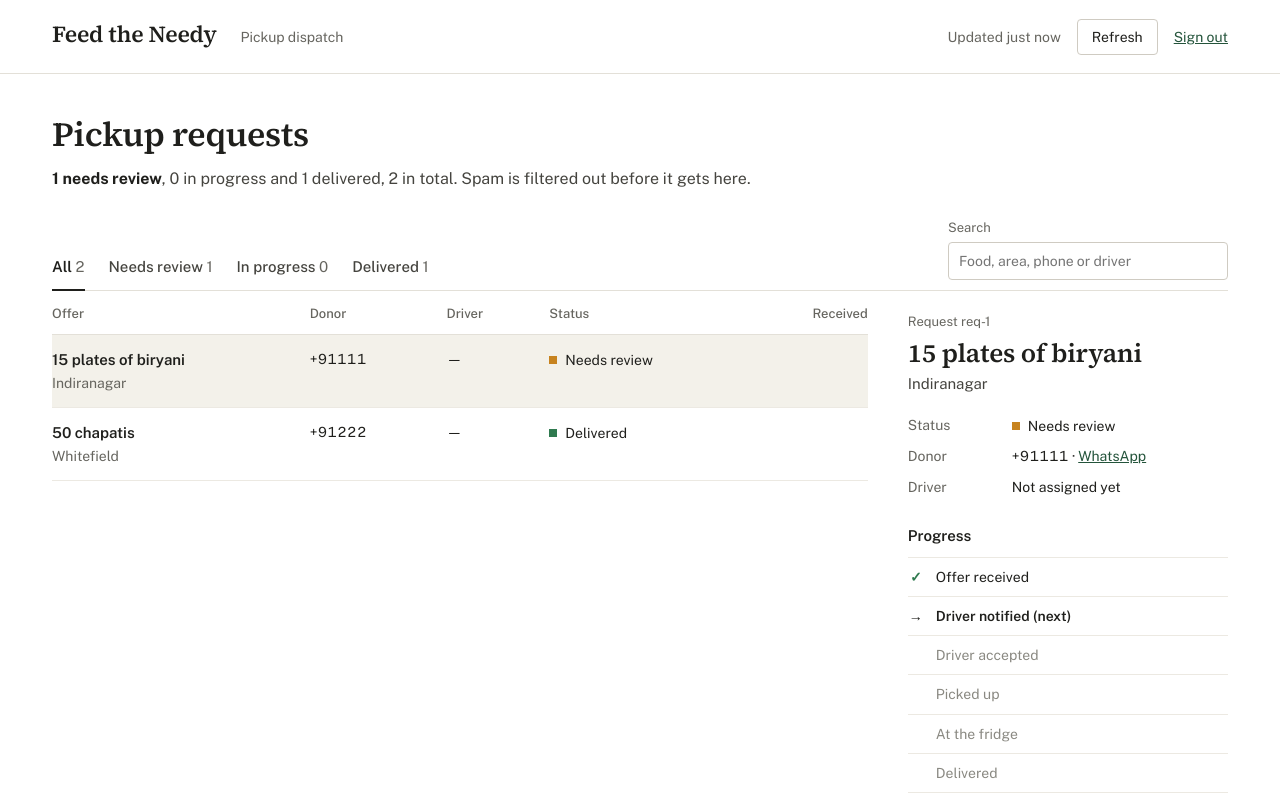
Test: stage tabs and search narrow the list
The image size is (1280, 800).
Expected: the button "15 plates of biryani" is shown, [52,349,185,371]
Expected: the button "50 chapatis" is shown, [52,422,135,444]
Click the tab "Delivered 1": (390, 273) [352,256,429,291]
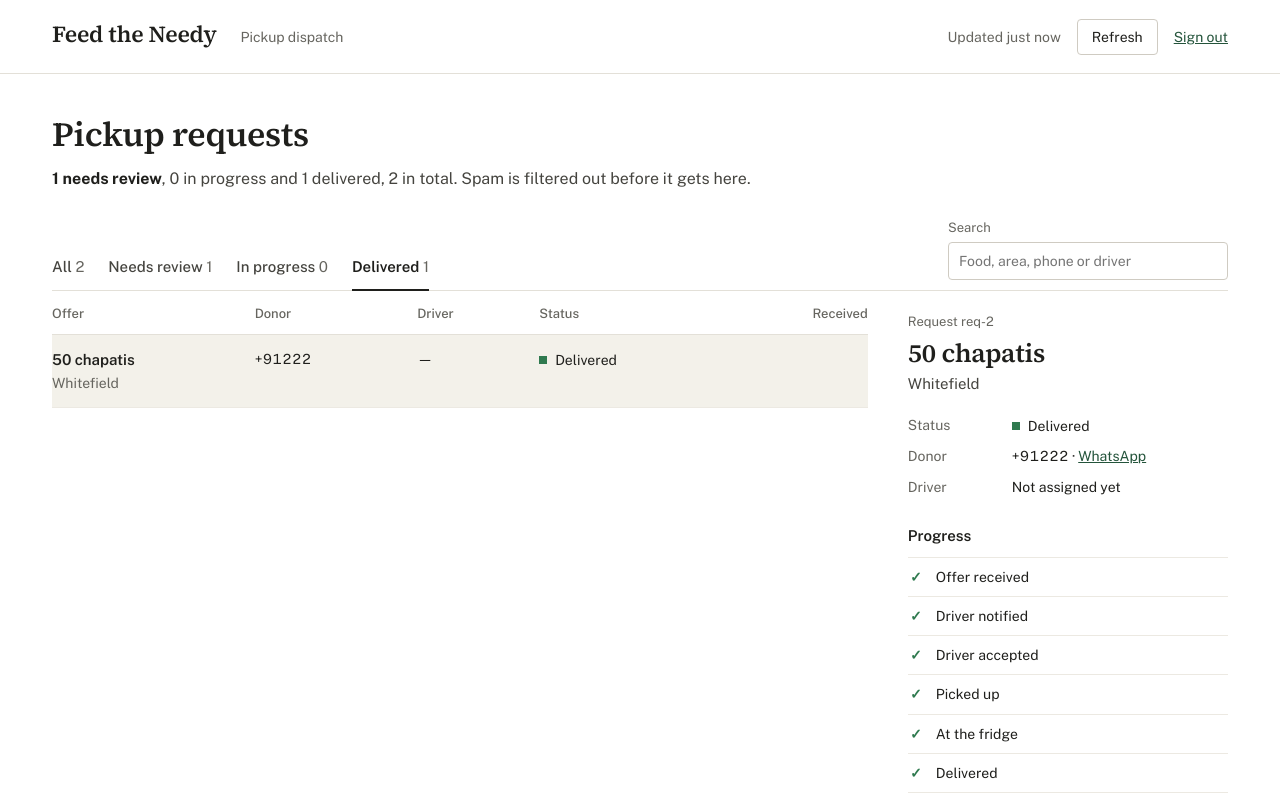
Result: the button "15 plates of biryani" is gone
Click the tab "All 2": (68, 273) [52,256,84,291]
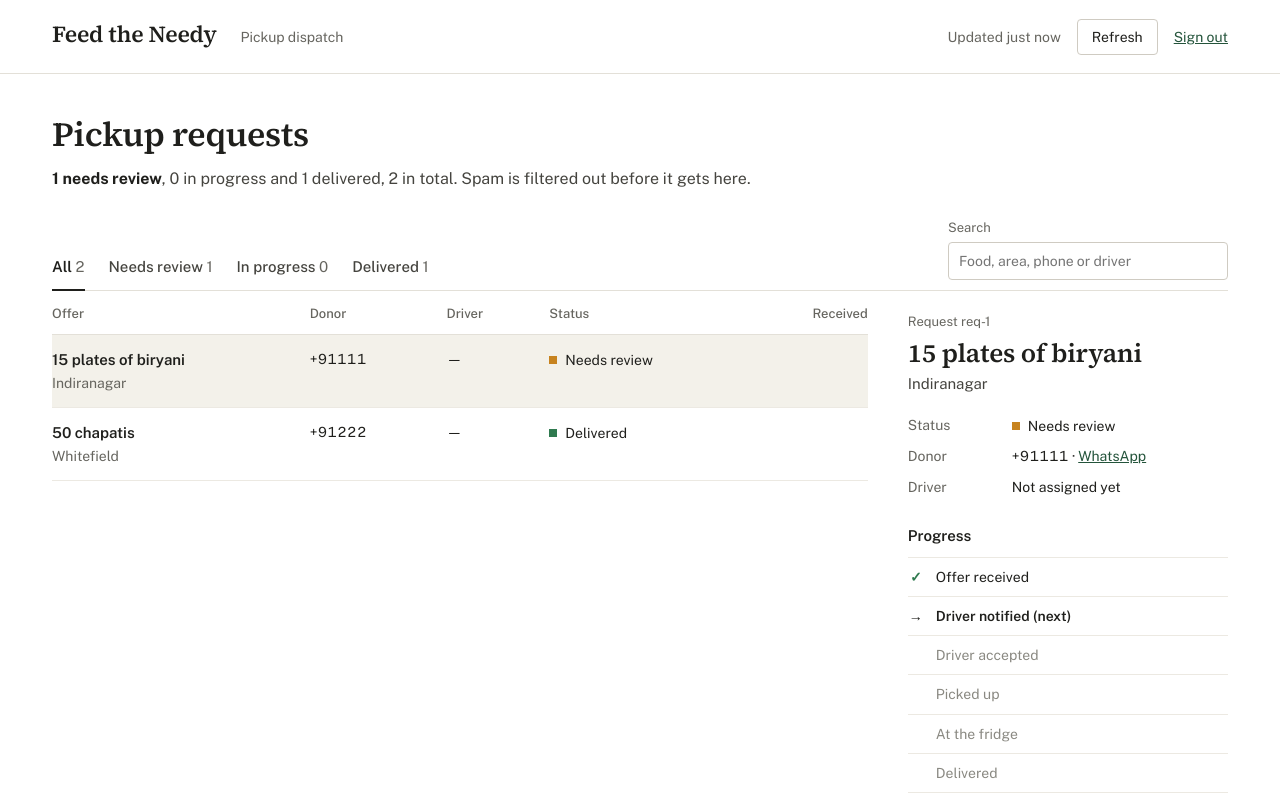
In the search field: (1088, 261) [948,242,1228,280], type "indira"
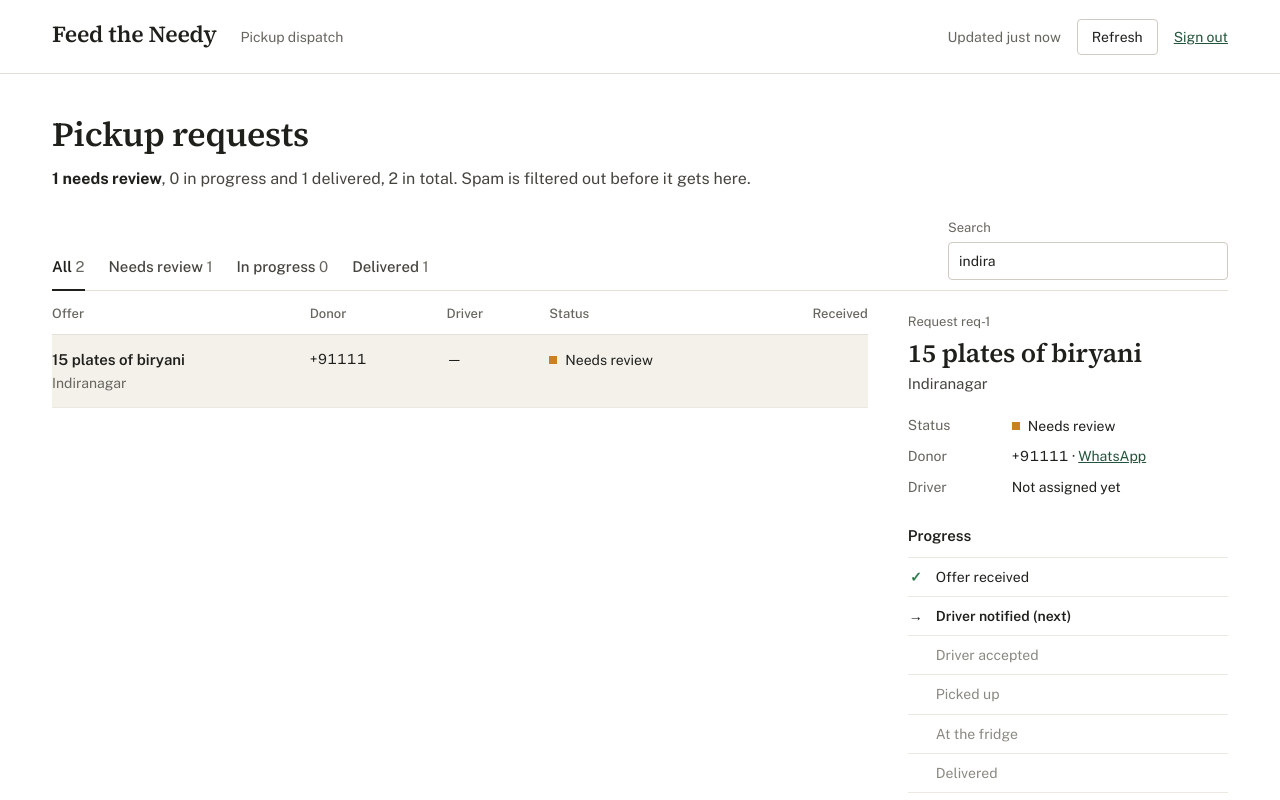
Result: the button "15 plates of biryani" is shown at [52,349,185,371]
Result: the button "50 chapatis" is gone
